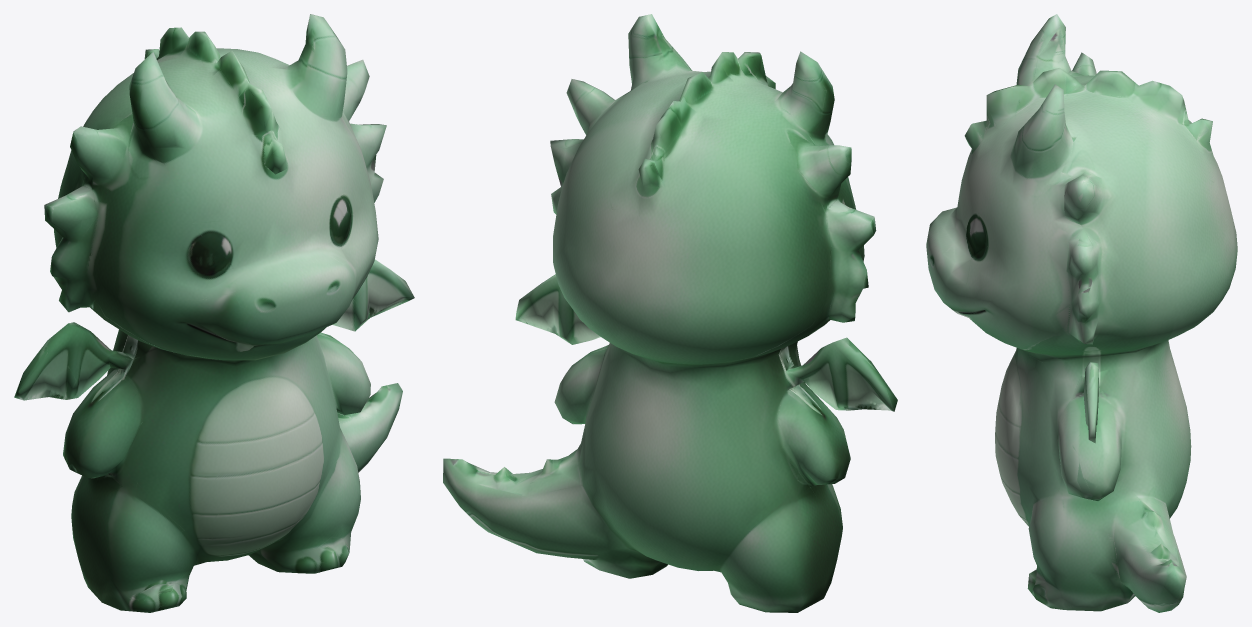
File: dragon.glb
3 renders of one model, left to right at view 1: azimuth 30°, elevation 25°; view 2: azimuth 150°, elevation 25°; view 3: azimuth 270°, elevation 25°, orthographic. The views are drawn at different scales.
Parts seen in each view (by area): view 1: material_0; view 2: material_0; view 3: material_0.
Boxes of the visible parts, box(x1,y1,x2,y2) form: material_0: box(14, 14, 414, 612); material_0: box(443, 14, 897, 612); material_0: box(926, 14, 1237, 612).
Size of the model in its own units: 0.8024 by 0.9912 by 0.5487.
1 material, 1 textured.
